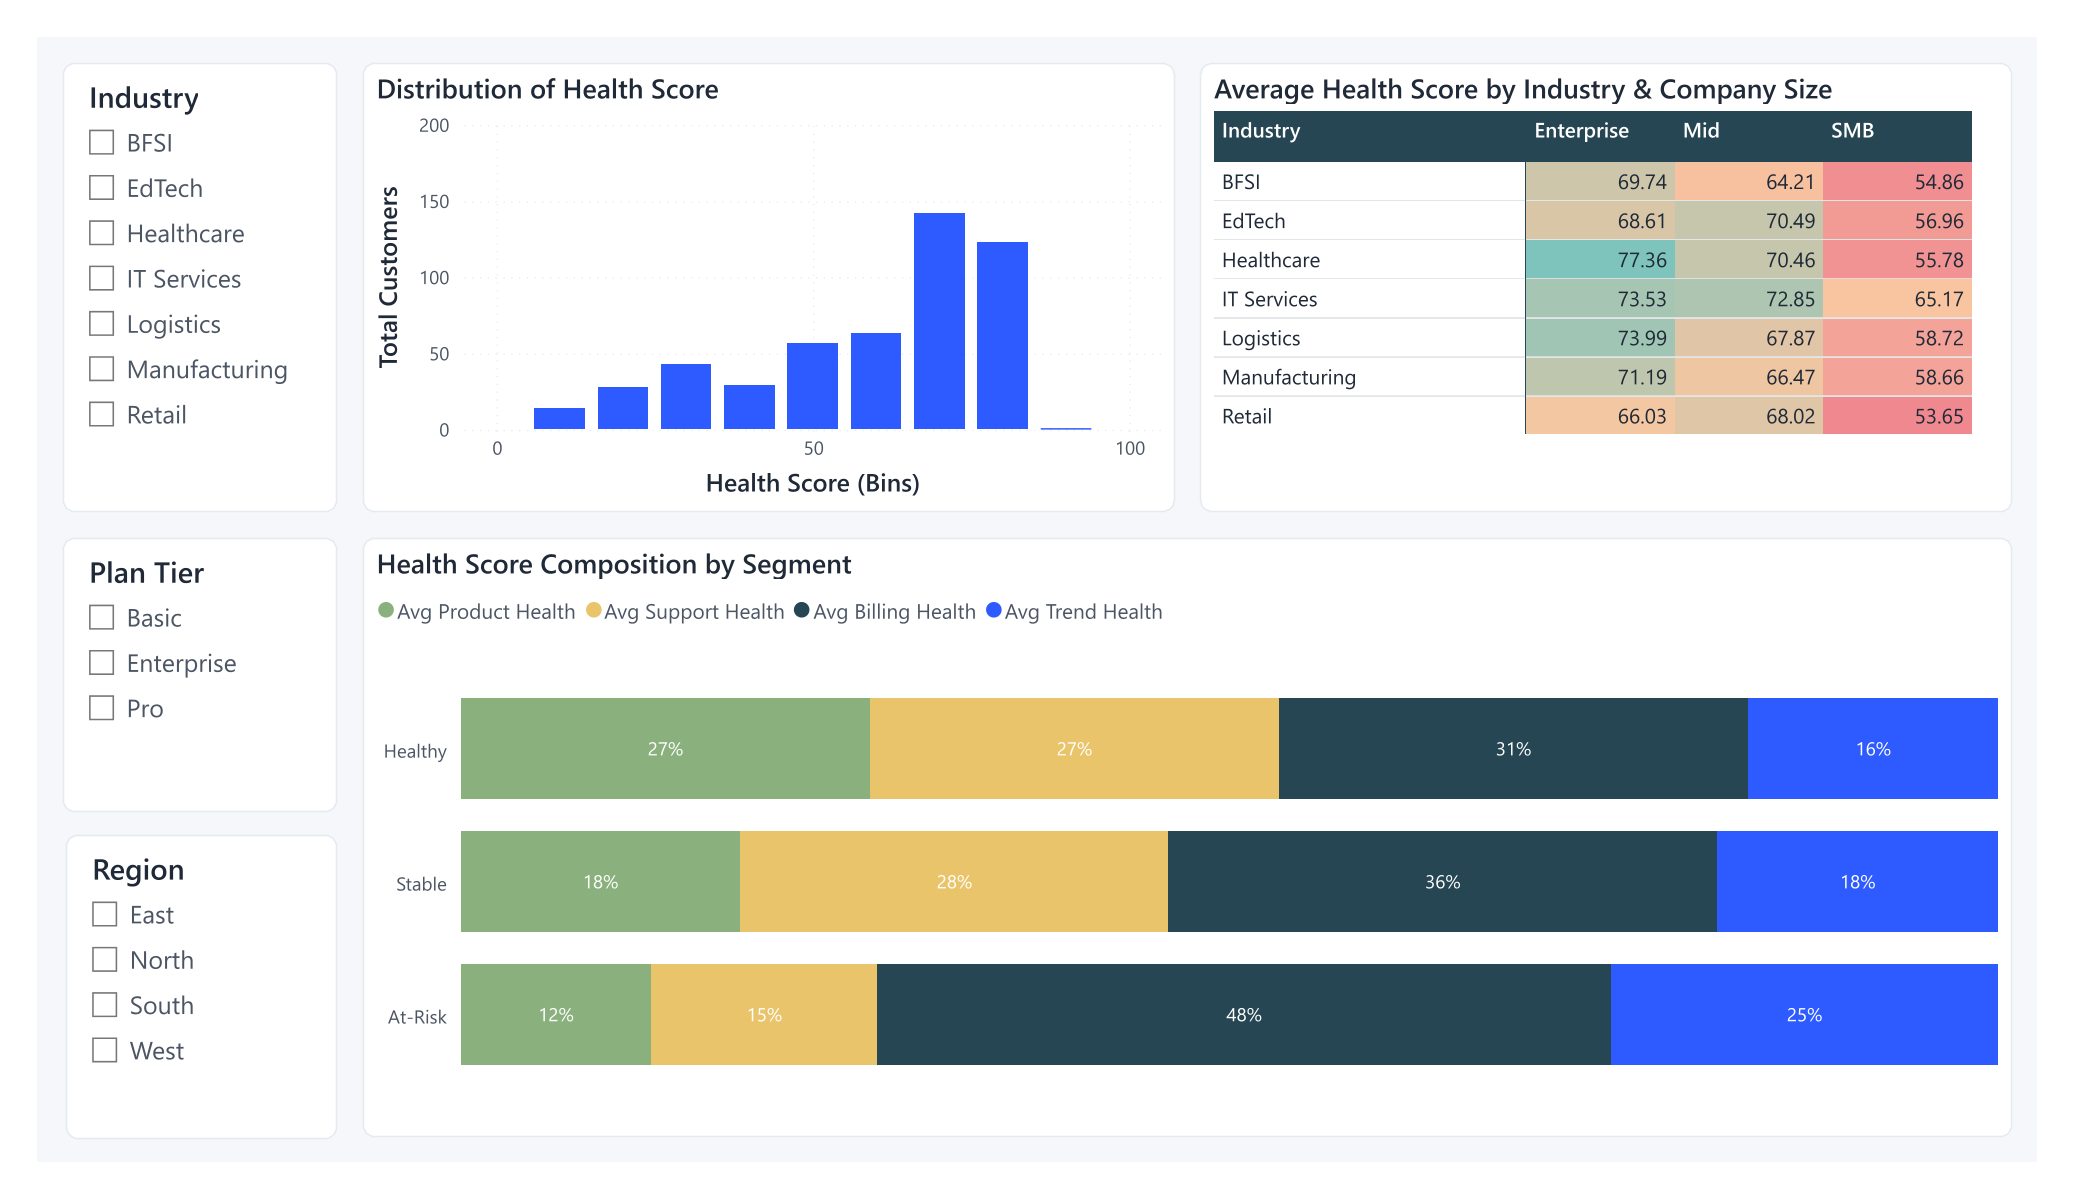

What the dashboard file says about the page in this screenshot:
{"tool":"powerbi","page":{"name":"Customer Health Deep-Dive","canvas":[1280,720],"ordinal":1},"visuals":[{"type":"clusteredColumnChart","title":"Distribution of Health Score","fields":{"Category":["features_final.health_score (bins)"],"Y":["_Measures.Total Customers"]},"box":[208,16,520,288],"z":0},{"type":"hundredPercentStackedBarChart","title":"Health Score Composition by Segment","fields":{"Category":["features_final.health_segment"],"Y":["_Measures.Avg Product Health","_Measures.Avg Support Health","_Measures.Avg Billing Health","_Measures.Avg Trend Health"]},"box":[208,320,1056,384],"z":1000},{"type":"pivotTable","title":"Average Health Score by Industry & Company Size","fields":{"Rows":["features_final.industry"],"Columns":["features_final.company_size"],"Values":["_Measures.Avg Health Score"]},"box":[744,16,520,288],"z":2000},{"type":"slicer","fields":{"Values":["features_final.industry"]},"box":[16,16,176,288],"z":3000},{"type":"slicer","fields":{"Values":["features_final.plan_tier"]},"box":[16,320,176,176],"z":4000},{"type":"slicer","fields":{"Values":["features_final.region"]},"box":[18.3,510,173.3,195],"z":5000}]}

Visuals, with their boxes on the page's 1280x720 design canvas (x1, y1, x2, y2). These are canvas units, not pixel positions in the 2075x1200 screenshot, which may show the page scaled, cropped or inside an application window:
"Distribution of Health Score" clusteredColumnChart: Rect(208, 16, 728, 304)
"Health Score Composition by Segment" hundredPercentStackedBarChart: Rect(208, 320, 1264, 704)
"Average Health Score by Industry & Company Size" pivotTable: Rect(744, 16, 1264, 304)
slicer - features_final.industry: Rect(16, 16, 192, 304)
slicer - features_final.plan_tier: Rect(16, 320, 192, 496)
slicer - features_final.region: Rect(18, 510, 192, 705)
